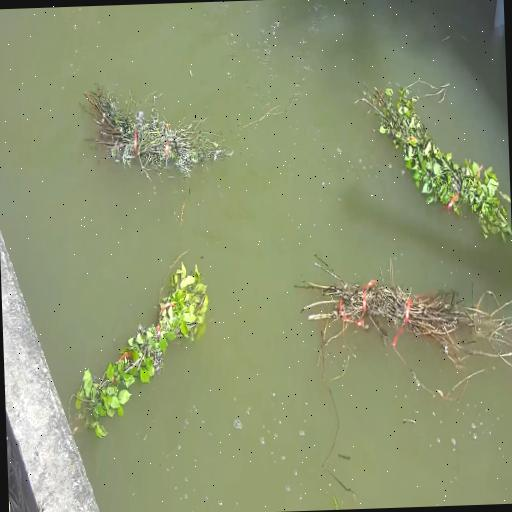twig: (62, 246, 230, 458), (371, 71, 512, 249), (76, 50, 236, 192), (296, 264, 478, 384)
